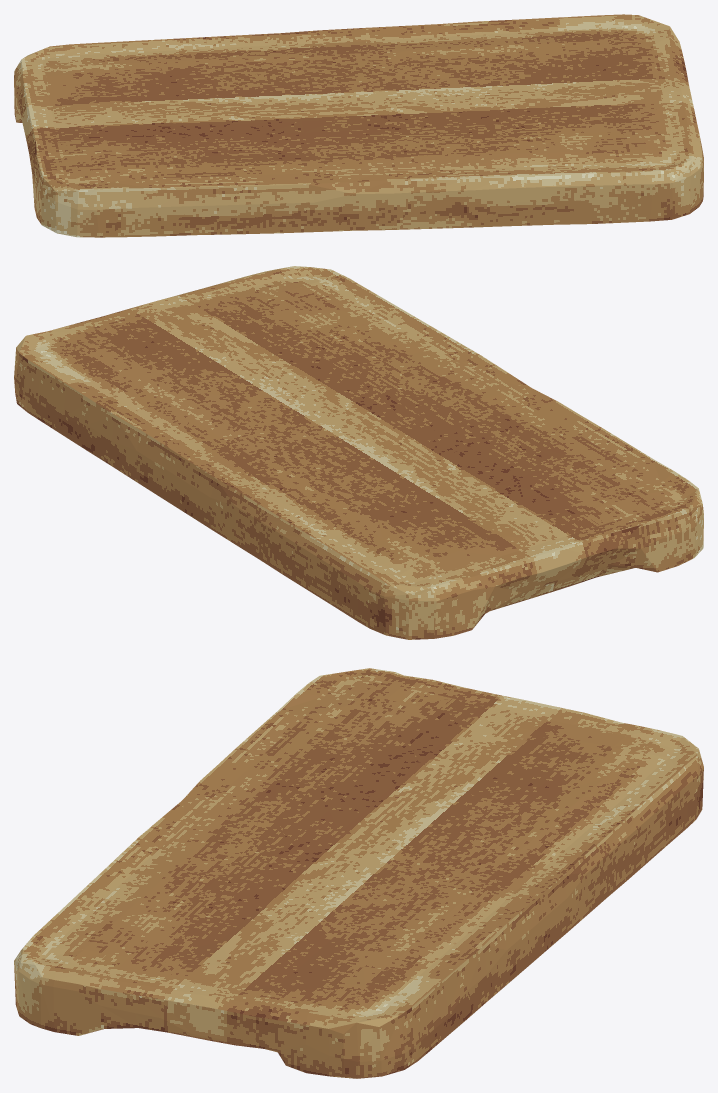
Rendered from board.glb.
3 views of the same model, one above another, from view 1: azimuth 30°, elevation 25°; view 2: azimuth 150°, elevation 25°; view 3: azimuth 270°, elevation 25° (orthographic). The views are drawn at different scales.
Visible parts, largest first — view 1: model_m; view 2: model_m; view 3: model_m.
Part boxes in pixels (x1,y1,x2,y2): model_m: (14, 14, 703, 237); model_m: (14, 266, 703, 639); model_m: (14, 668, 703, 1078).
Size of the model in its own units: 41.41 by 3.54 by 33.14.
Materials: 1 (1 with a texture image).
